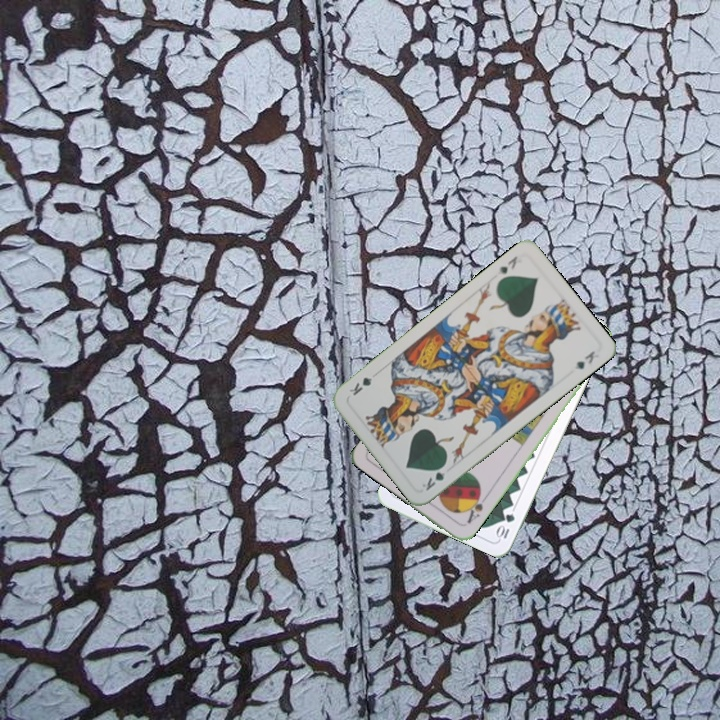G10: (493, 509, 517, 542)
GK: (418, 460, 449, 494), (493, 252, 520, 277)
SA: (462, 489, 489, 526)
